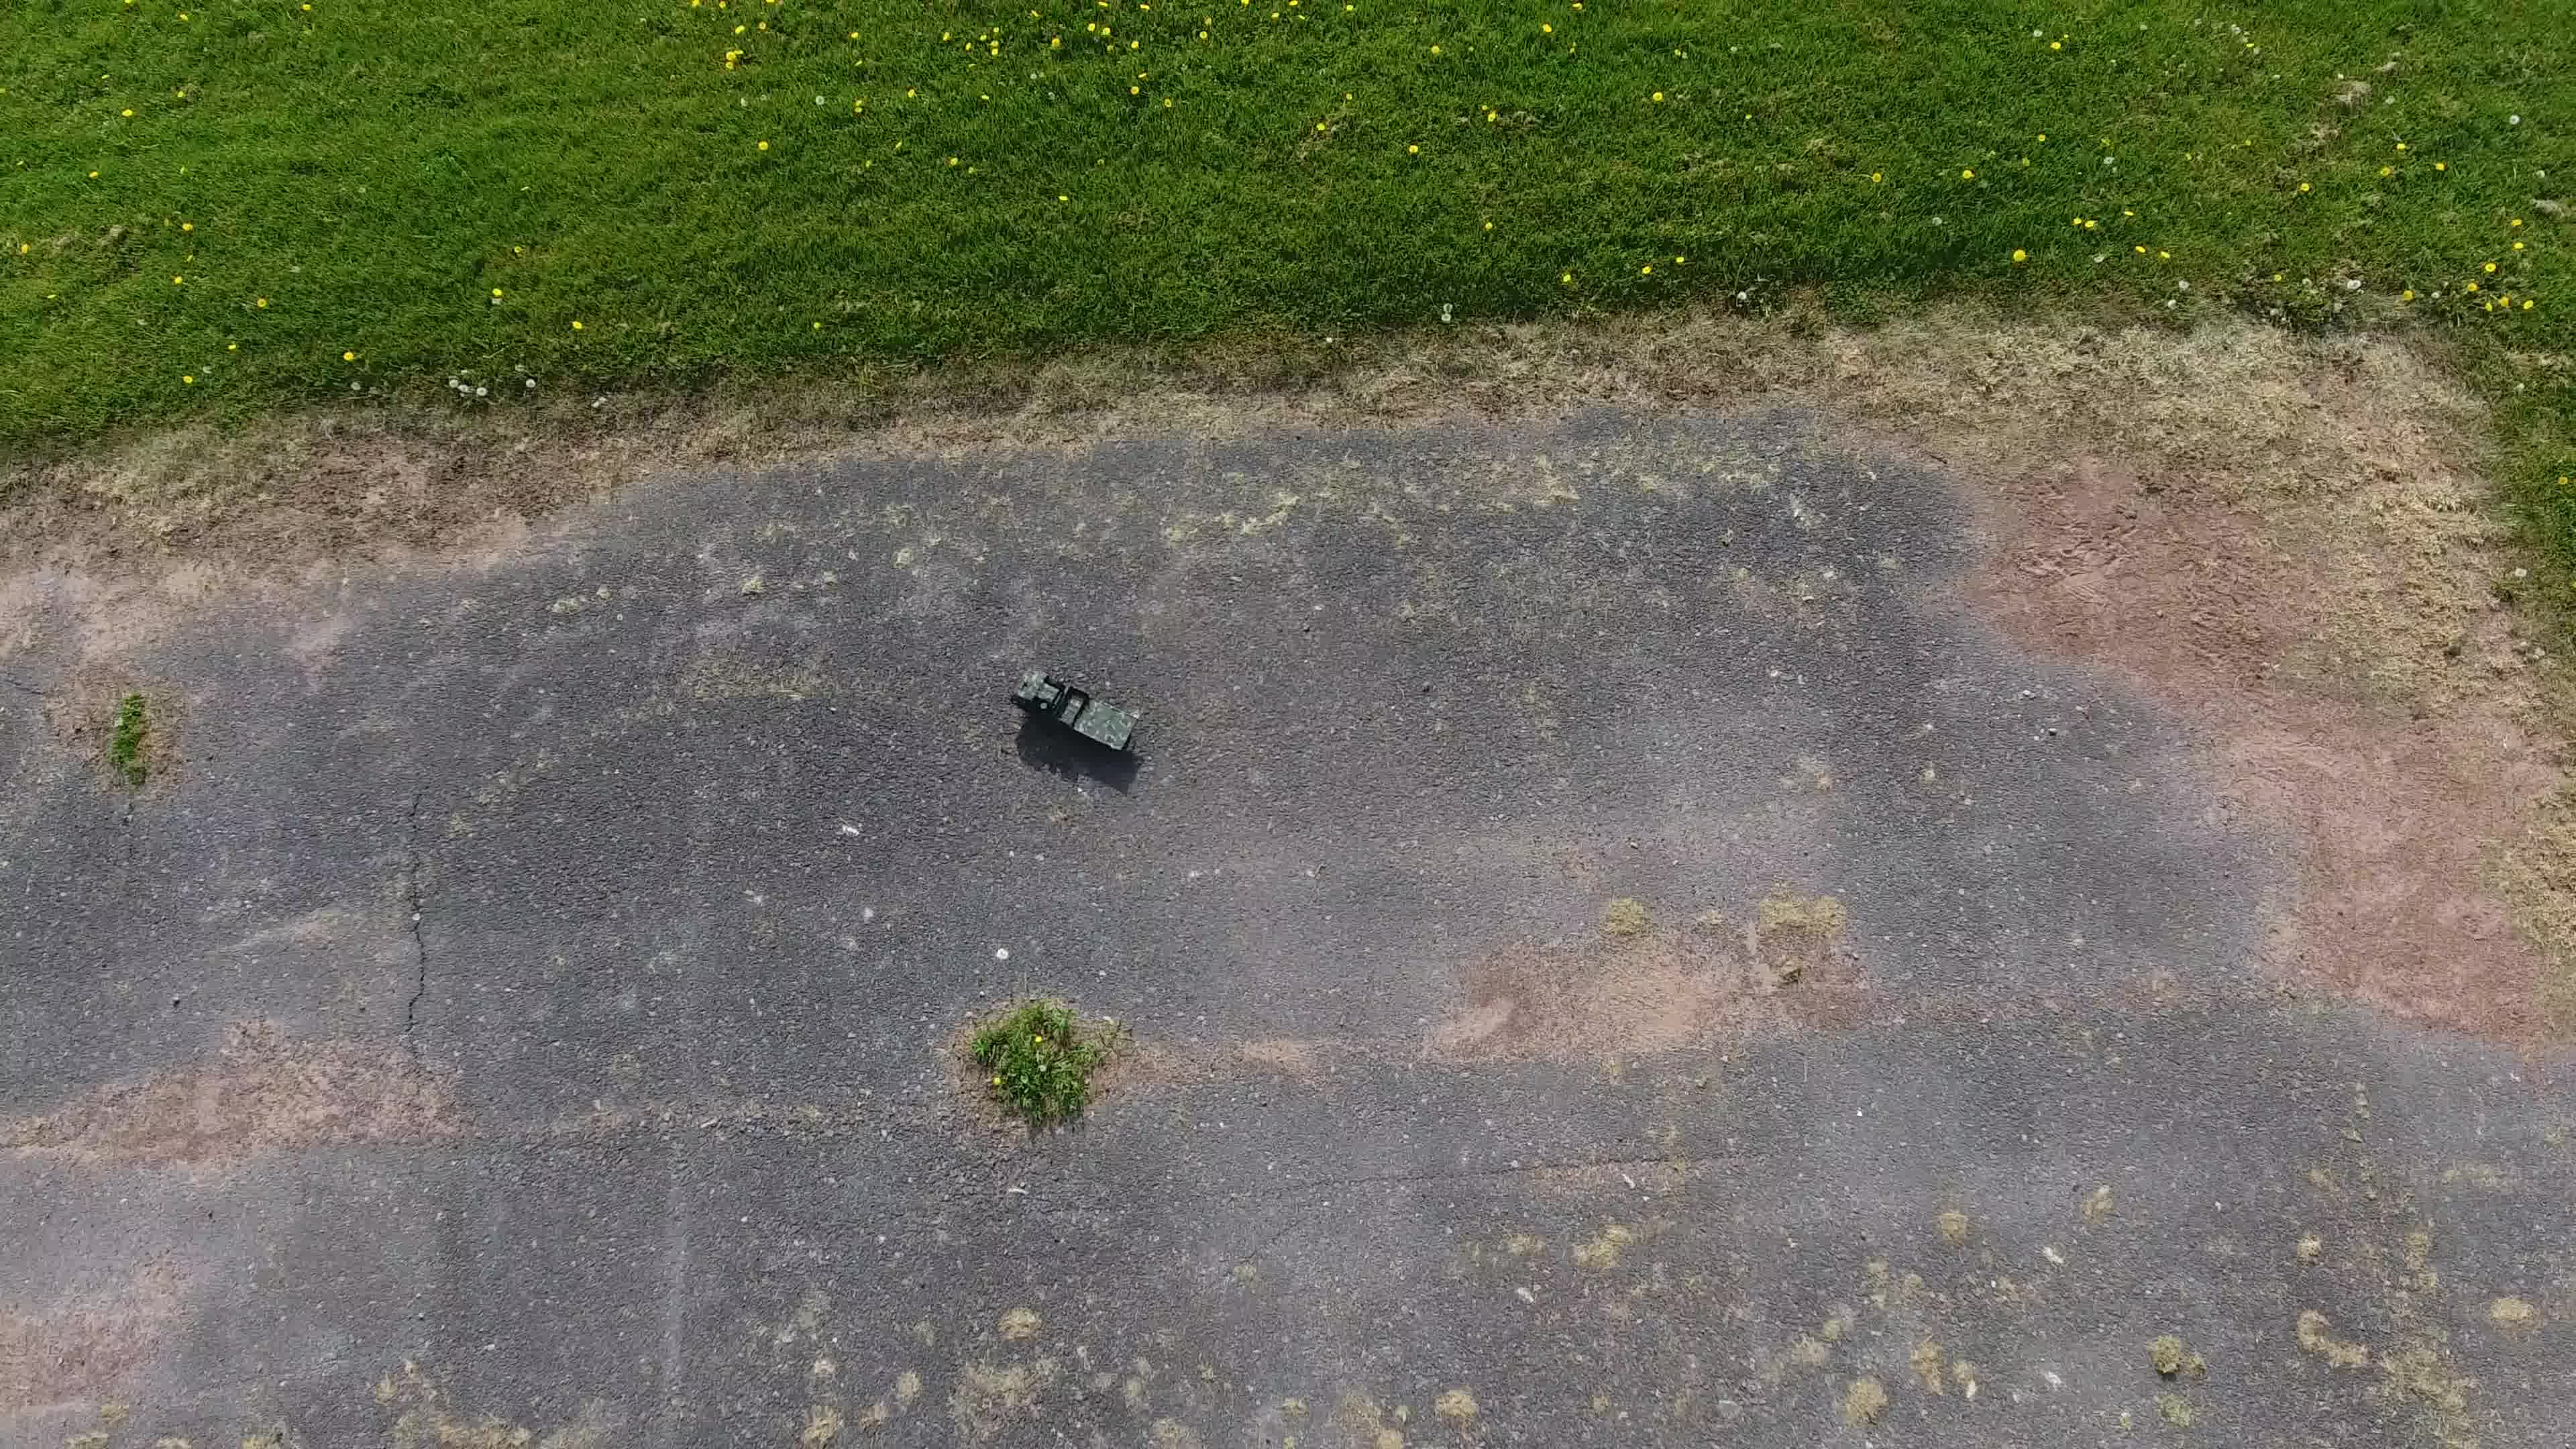transporter9_camo: (1005, 662, 1143, 763)
